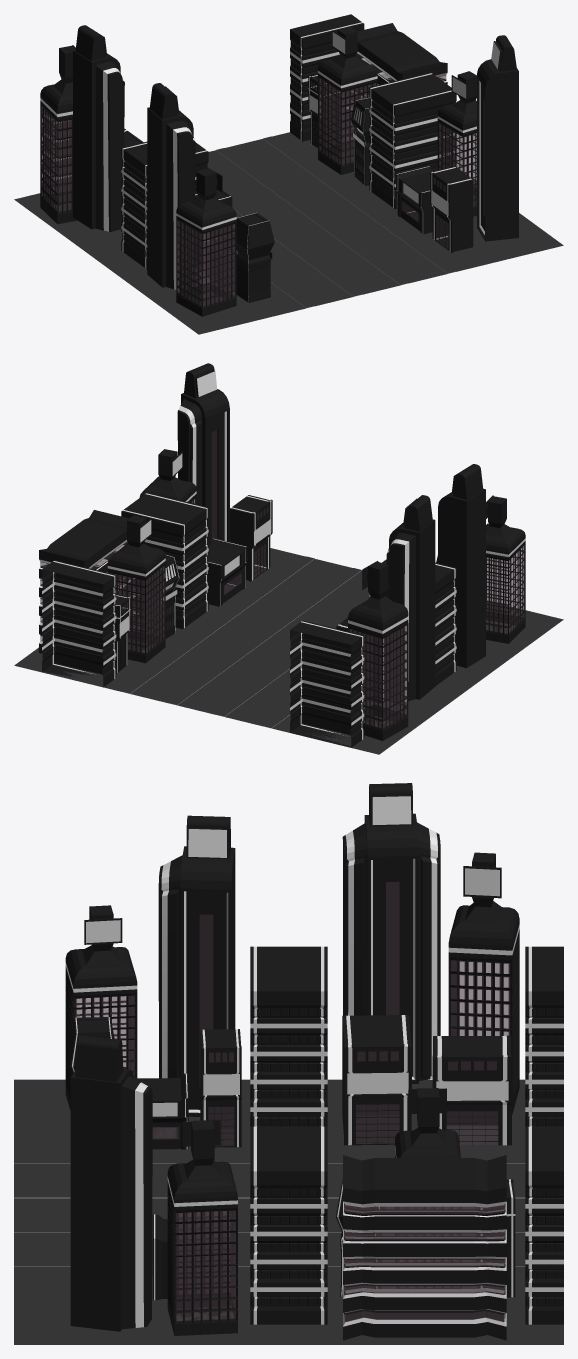
The model's file is Level.fbx.
3 views of the same model, one above another, from view 1: azimuth 30°, elevation 25°; view 2: azimuth 150°, elevation 25°; view 3: azimuth 270°, elevation 25° (orthographic). The views are drawn at different scales.
Visible parts, largest first — view 1: Skyscraper.006; view 2: Skyscraper.006; view 3: Skyscraper.006.
Boxes of the visible parts, x1=… form: Skyscraper.006: x1=14, y1=14, x2=563, y2=334; Skyscraper.006: x1=14, y1=363, x2=563, y2=754; Skyscraper.006: x1=14, y1=783, x2=563, y2=1344.
Bounding box in the file's own units: 14675 × 8025 × 12856.
